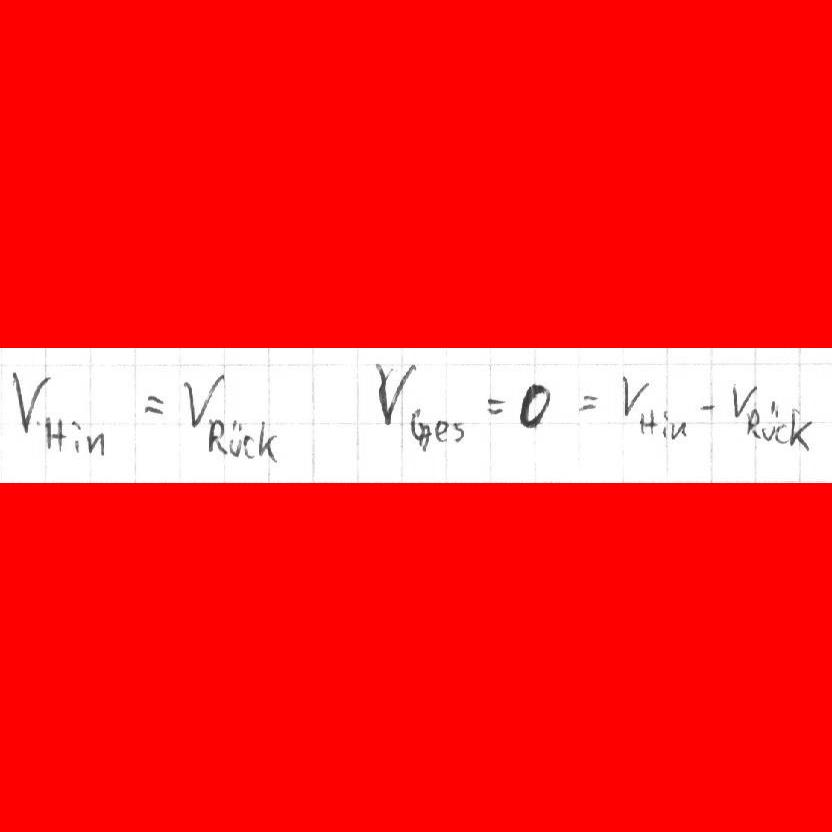Char: (376, 360, 414, 429), (8, 369, 47, 434), (183, 373, 222, 428), (516, 379, 551, 432), (620, 371, 649, 419), (788, 402, 813, 453), (408, 406, 433, 451), (729, 381, 757, 419), (257, 416, 279, 462), (42, 414, 66, 451), (204, 416, 226, 455), (761, 400, 778, 441), (143, 391, 167, 418), (84, 427, 104, 457), (575, 391, 601, 412), (746, 408, 763, 439), (638, 407, 656, 435), (229, 419, 242, 456), (670, 417, 690, 441), (484, 394, 505, 416), (434, 416, 450, 444), (242, 431, 256, 462), (70, 418, 82, 453), (451, 422, 467, 444), (774, 423, 789, 444), (696, 398, 716, 413), (660, 409, 669, 439)
